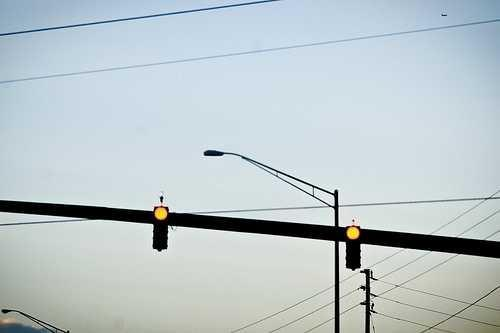red: (343, 220, 366, 272), (150, 200, 172, 254)
